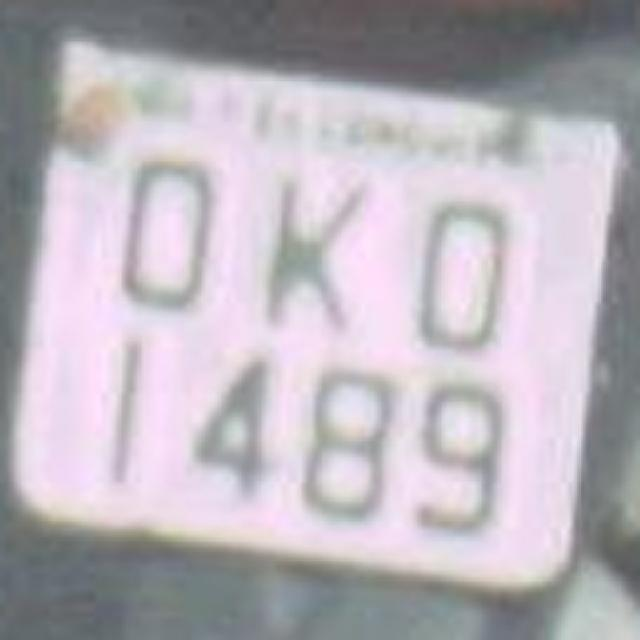1: (84, 316, 156, 484)
4: (168, 328, 300, 520)
8: (280, 340, 408, 540)
9: (392, 344, 520, 564)
K: (248, 156, 372, 352)
O: (391, 172, 524, 368), (109, 128, 236, 324)
